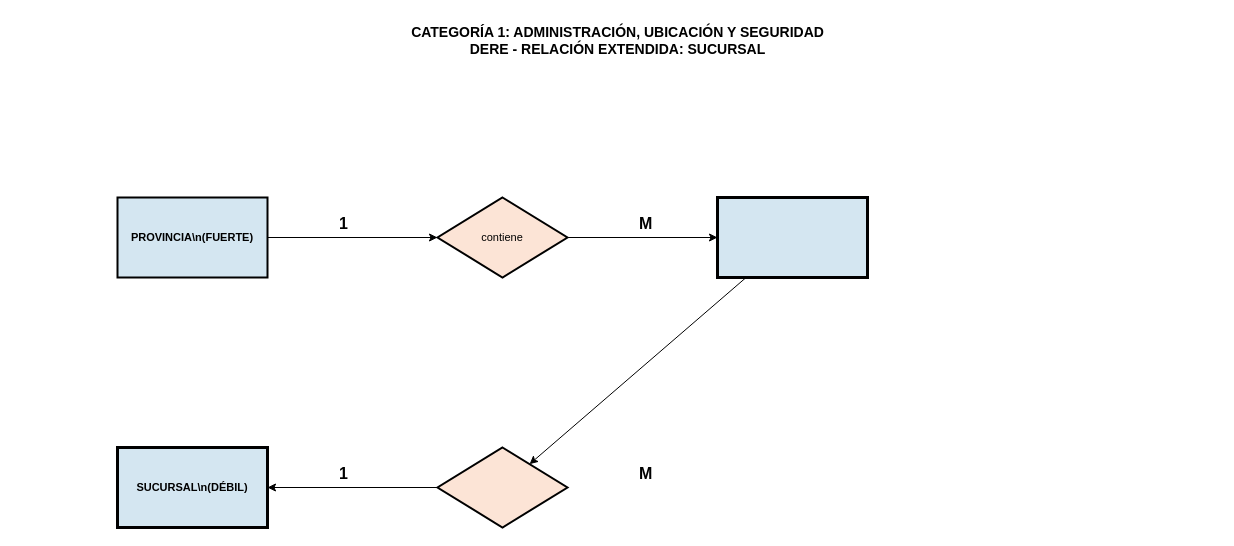
This 1234x546 diagram has some shape labels left out. The shapes that lost their labels are listed below. From the top down, each one's centre as x and y in pixels, then its label:
At (x=792, y=237): "CIUDAD\n(DÉBIL)".
At (x=502, y=487): "ubicada en".
